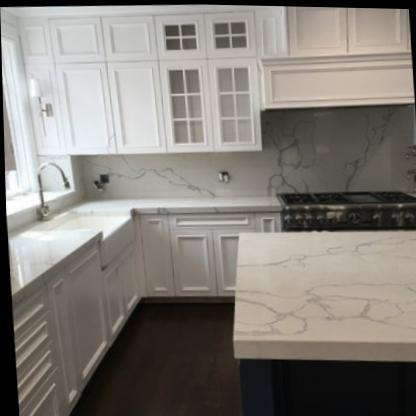Cabinet: (11, 213, 141, 416), (25, 12, 161, 157), (155, 8, 263, 151)
